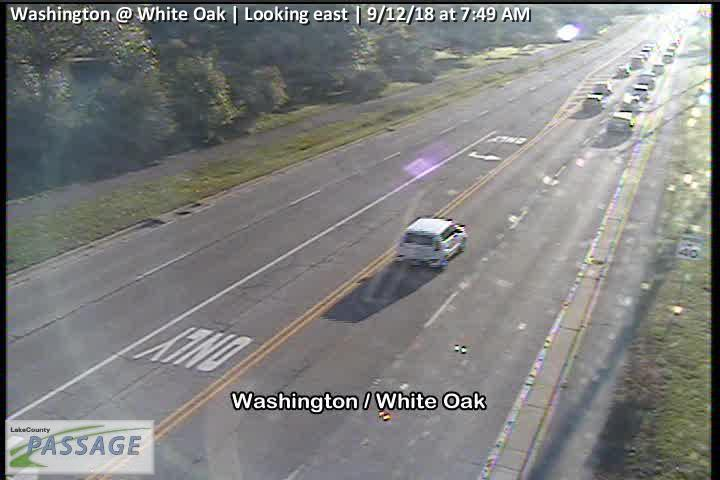SUV: (395, 215, 470, 269), (605, 109, 634, 136), (581, 96, 604, 112), (622, 94, 642, 109), (633, 85, 649, 96), (640, 71, 651, 85)
Sedan: (592, 81, 612, 93), (616, 66, 631, 78)
